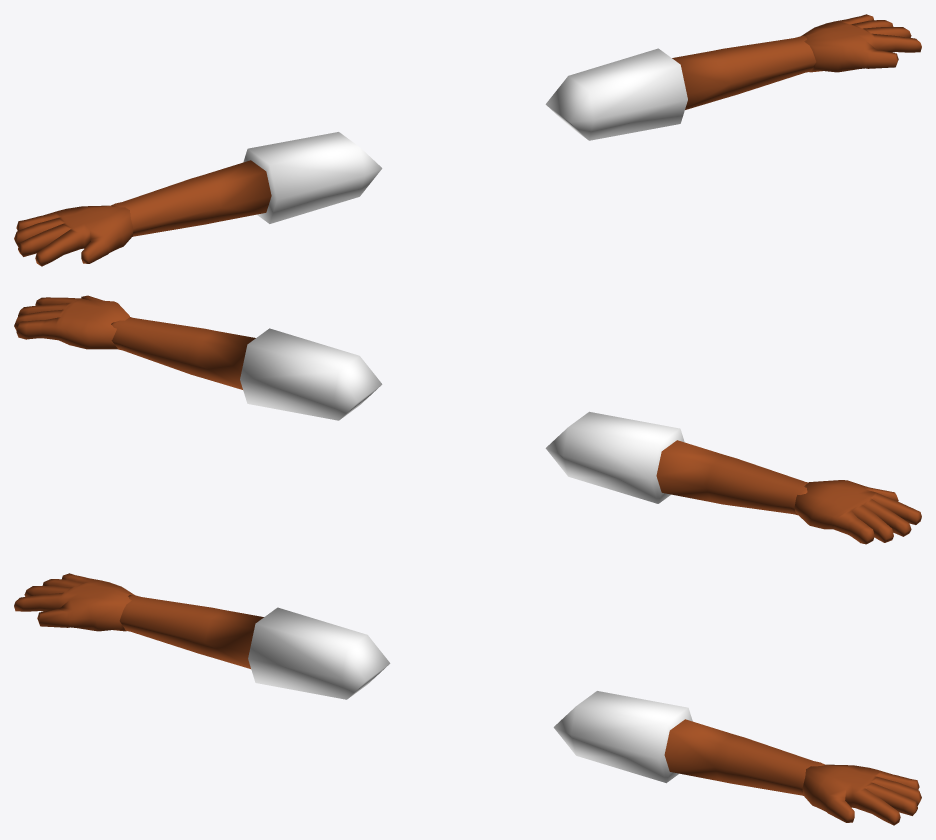
File: NPC_Yellow_Arm_02.gltf
3 renders of one model, top to bottom at view 1: azimuth 30°, elevation 25°; view 2: azimuth 150°, elevation 25°; view 3: azimuth 330°, elevation 25°, orthographic.
Visible parts, largest first — view 1: NPC_Yellow_Arm_02; view 2: NPC_Yellow_Arm_02; view 3: NPC_Yellow_Arm_02.
Boxes of the visible parts, x1=… form: NPC_Yellow_Arm_02: x1=14, y1=14, x2=921, y2=266; NPC_Yellow_Arm_02: x1=14, y1=295, x2=921, y2=544; NPC_Yellow_Arm_02: x1=14, y1=573, x2=921, y2=825.
Size of the model in its own units: 2.31 by 0.147 by 0.2269.
Materials: 1 (1 with a texture image).
